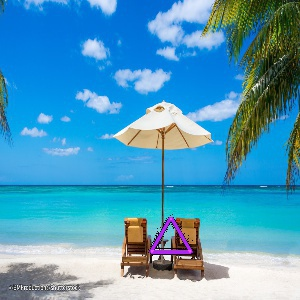triangle: (144, 213, 195, 257)
